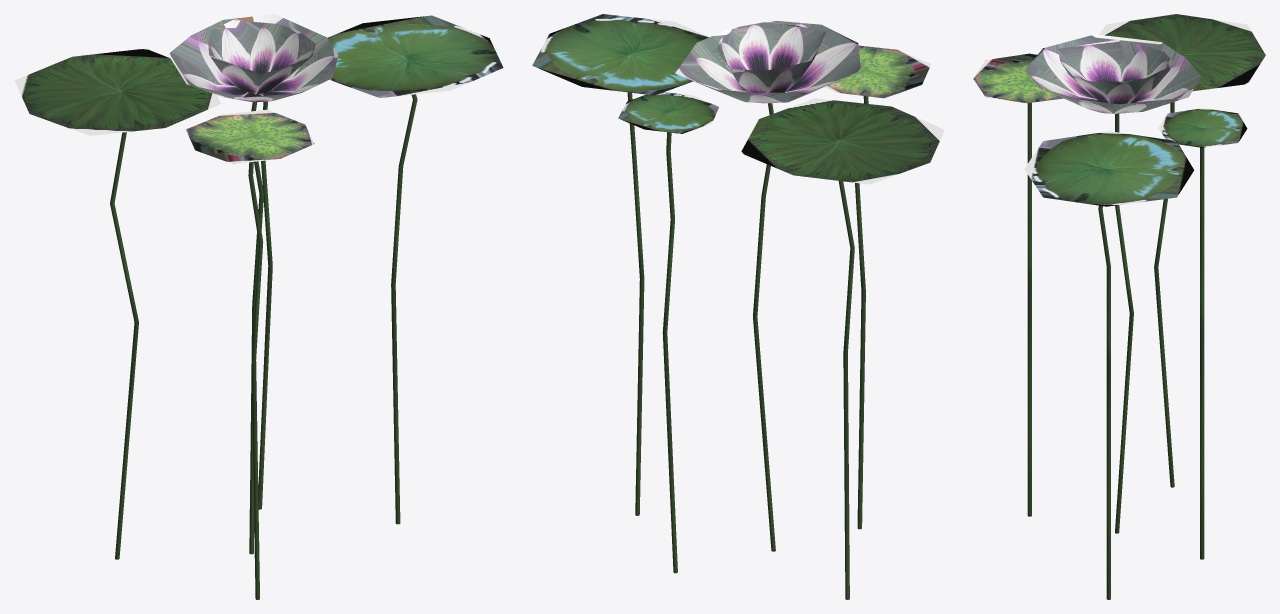
The model's file is water_lily.glb.
3 views of the same model, side by side, from view 1: azimuth 30°, elevation 25°; view 2: azimuth 150°, elevation 25°; view 3: azimuth 270°, elevation 25° (orthographic). The views are drawn at different scales.
Parts seen in each view (by area): view 1: Cylinder.003, Cylinder.002, Plane, Plane.005, Cylinder.001; view 2: Cylinder.003, Plane, Cylinder.002, Cylinder.001, Plane.005; view 3: Cylinder.002, Plane, Cylinder.003, Cylinder.001, Plane.005.
Part boxes in pixels (x1,y1,x2,y2): Cylinder.003: (14,48,220,559); Cylinder.002: (328,15,503,524); Plane: (168,14,338,554); Plane.005: (186,109,314,599); Cylinder.001: (258,101,272,509); Cylinder.003: (740,98,944,599); Plane: (675,20,860,551); Cylinder.002: (532,14,709,515); Cylinder.001: (618,92,718,573); Plane.005: (824,45,930,529); Cylinder.002: (1024,131,1194,599); Plane: (1025,34,1201,533); Cylinder.003: (1099,14,1265,487); Cylinder.001: (1158,108,1247,559); Plane.005: (973,53,1063,516).
Bounding box in the file's own units: 15.95 × 18.36 × 10.24.
1 material, 1 textured.
